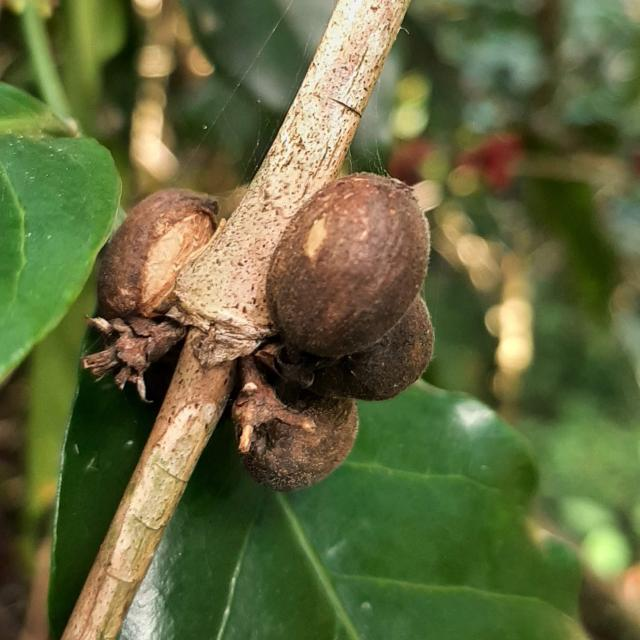red: (266, 173, 430, 358), (97, 189, 217, 320), (312, 296, 435, 401), (240, 398, 359, 493)
